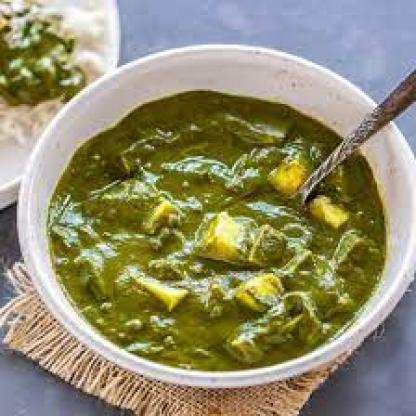palak_paneer: (47, 88, 388, 372), (0, 0, 85, 104)
